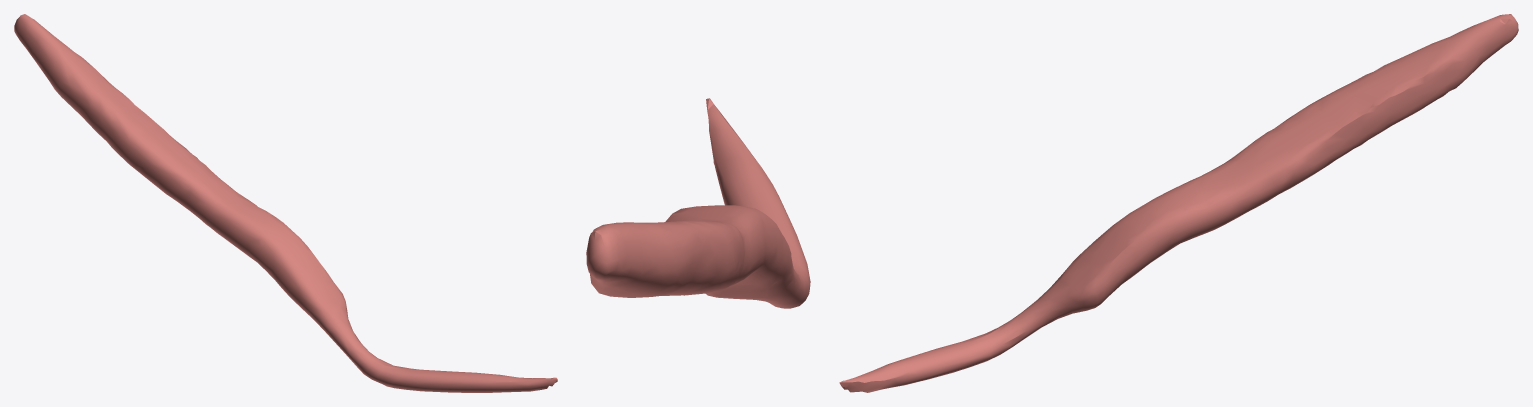
Rendered from fma37746_mm1747.glb.
3 renders of one model, left to right at view 1: azimuth 30°, elevation 25°; view 2: azimuth 150°, elevation 25°; view 3: azimuth 270°, elevation 25°, orthographic. The views are drawn at different scales.
Parts seen in each view (by area): view 1: FMA37746_MM1747; view 2: FMA37746_MM1747; view 3: FMA37746_MM1747.
Part boxes in pixels (x1=…): FMA37746_MM1747: x1=14, y1=14, x2=557, y2=392; FMA37746_MM1747: x1=586, y1=98, x2=810, y2=308; FMA37746_MM1747: x1=839, y1=14, x2=1518, y2=392.
Size of the model in its own units: 0.0261 by 0.0238 by 0.0545.
